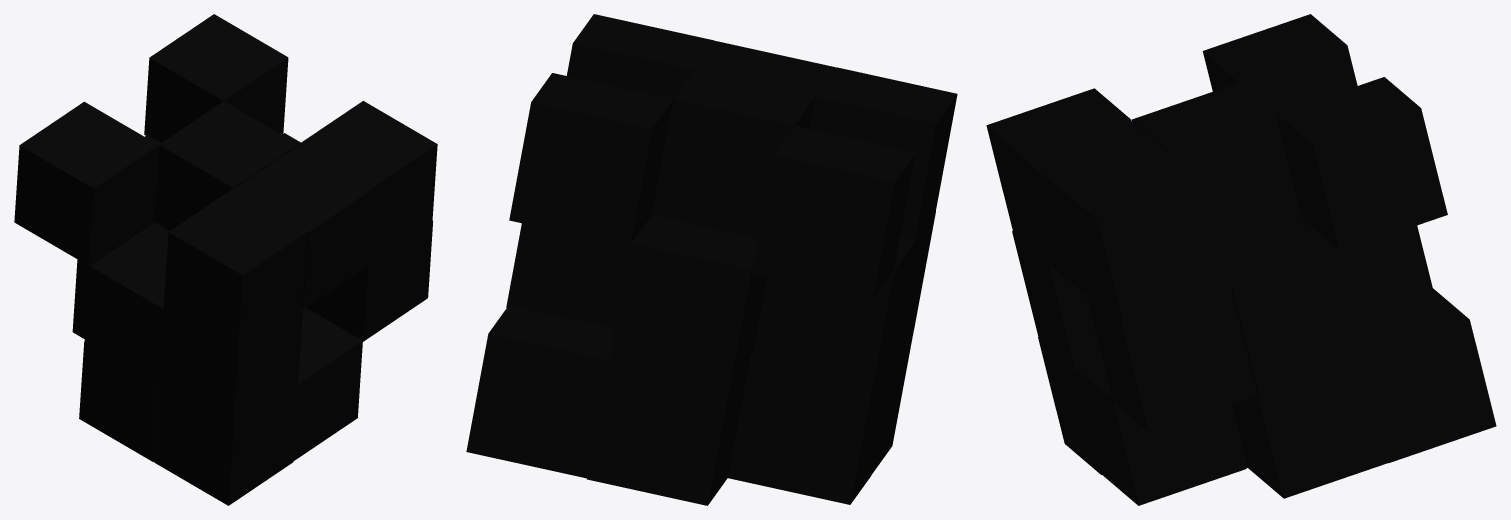
3 views of the same model, side by side, from view 1: azimuth 30°, elevation 25°; view 2: azimuth 150°, elevation 25°; view 3: azimuth 270°, elevation 25° (orthographic). The views are drawn at different scales.
Visible parts, largest first — view 1: node_id60, node_id51, node_id57, node_id38, node_id54, node_id44, node_id31, node_id63, node_id34, node_id47, node_id41, node_id25 (+1 smaller); view 2: node_id60, node_id57, node_id12, node_id9, node_id63, node_id25, node_id6, node_id34, node_id51, node_id18, node_id54, node_id38 (+2 smaller); view 3: node_id57, node_id54, node_id18, node_id9, node_id41, node_id63, node_id21, node_id47, node_id60, node_id38, node_id51, node_id44 (+2 smaller).
Boxes of the visible parts, x1,y1,x2,y2 form: node_id60: [14, 101, 158, 265]; node_id51: [163, 188, 307, 351]; node_id57: [144, 14, 288, 142]; node_id38: [234, 145, 373, 309]; node_id54: [298, 101, 437, 263]; node_id44: [159, 308, 302, 429]; node_id31: [154, 385, 298, 505]; node_id63: [153, 101, 297, 230]; node_id34: [84, 222, 169, 386]; node_id47: [293, 308, 362, 461]; node_id41: [306, 220, 433, 341]; node_id25: [79, 342, 159, 461]; node_id60: [752, 126, 915, 300]; node_id57: [509, 73, 672, 246]; node_id12: [609, 215, 765, 387]; node_id9: [466, 305, 614, 478]; node_id63: [652, 70, 814, 238]; node_id25: [729, 359, 892, 504]; node_id6: [587, 360, 749, 505]; node_id34: [752, 237, 915, 387]; node_id51: [809, 67, 957, 240]; node_id18: [506, 223, 629, 328]; node_id54: [567, 14, 714, 99]; node_id38: [694, 41, 835, 128]; node_id57: [1276, 77, 1447, 251]; node_id54: [1060, 151, 1231, 325]; node_id18: [1221, 220, 1366, 395]; node_id9: [1356, 288, 1496, 463]; node_id41: [1086, 288, 1256, 432]; node_id63: [1132, 82, 1302, 246]; node_id21: [1231, 359, 1391, 498]; node_id47: [1075, 359, 1246, 505]; node_id60: [1202, 14, 1357, 113]; node_id38: [1022, 120, 1166, 294]; node_id51: [986, 88, 1131, 261]; node_id44: [1012, 231, 1101, 367].
Size of the model in its own units: 0.6739 by 0.6598 by 0.7362.
19 materials, 19 textured.
